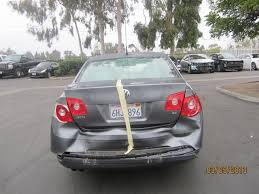rear-bumper-dent: (71, 131, 186, 168)
